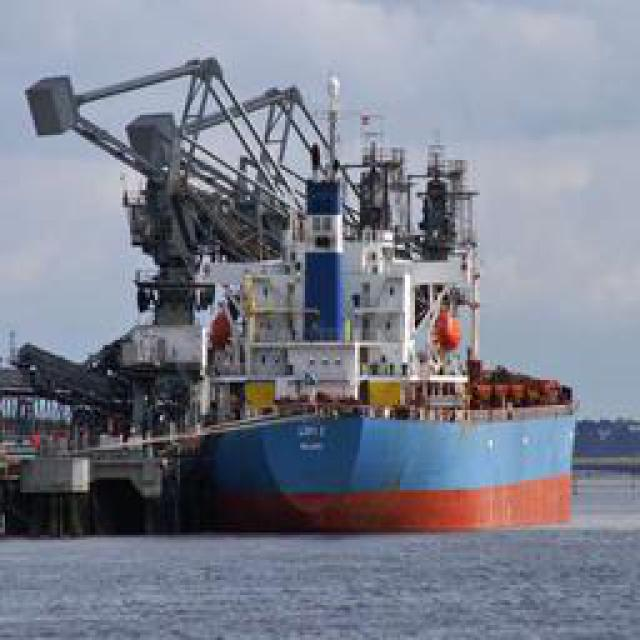Ship: (26, 40, 576, 525)
